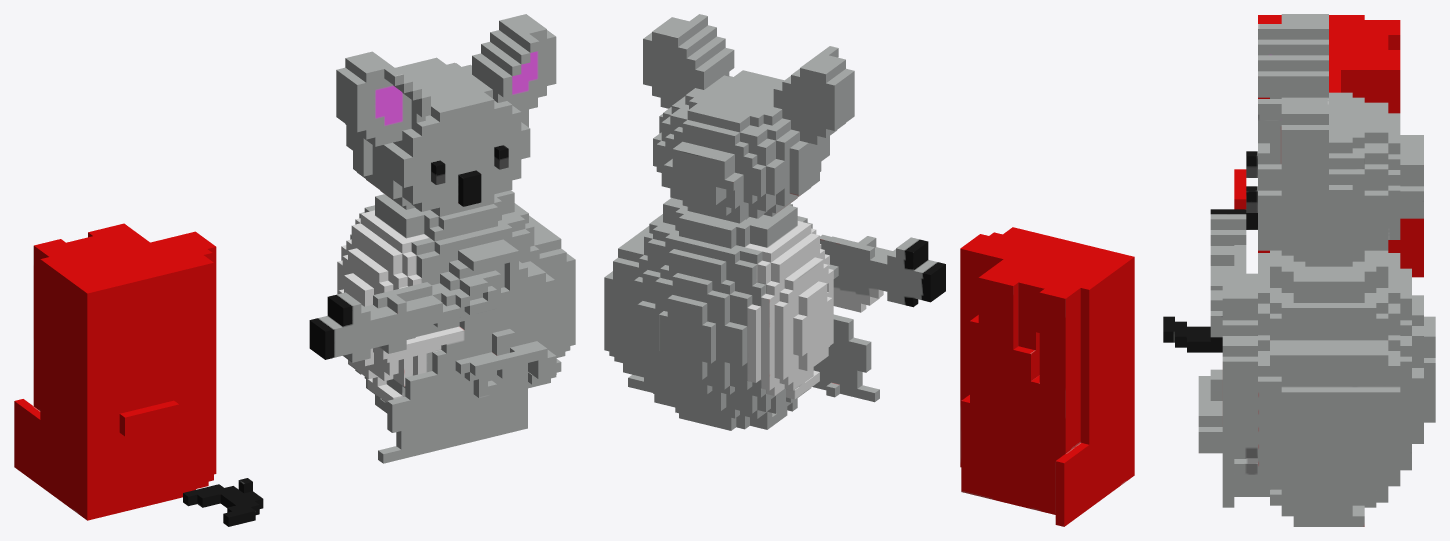
Rendered from koara.glb.
The picture shows the model from 3 angles, left to right: view 1: azimuth 30°, elevation 25°; view 2: azimuth 150°, elevation 25°; view 3: azimuth 270°, elevation 25°; orthographic projection. The views are drawn at different scales.
Parts seen in each view (by area): view 1: koara; view 2: koara; view 3: koara.
Boxes of the visible parts, <box> form: koara: <box>14,14,575,526</box>; koara: <box>604,14,1134,526</box>; koara: <box>1163,14,1435,526</box>.
Size of the model in its own units: 1.08 by 0.78 by 0.46.
Materials: 1 (1 with a texture image).
